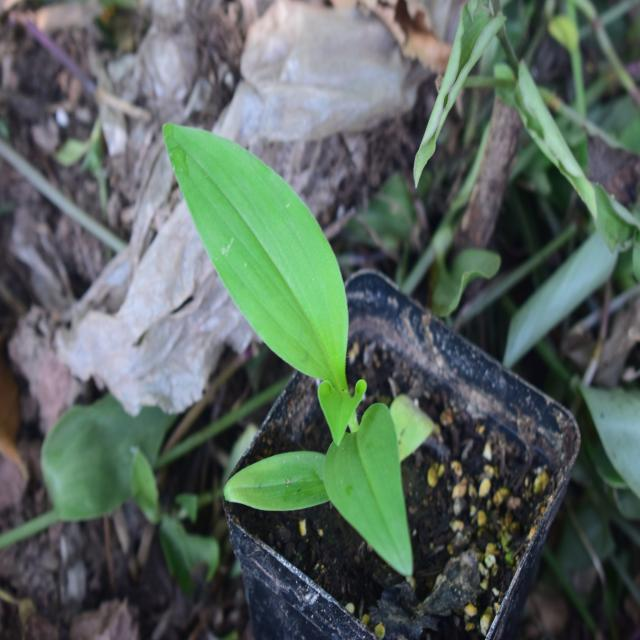Common Dayflower: (162, 110, 429, 577)
